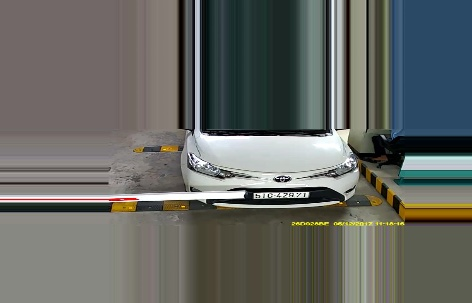plate: (252, 187, 309, 199)
